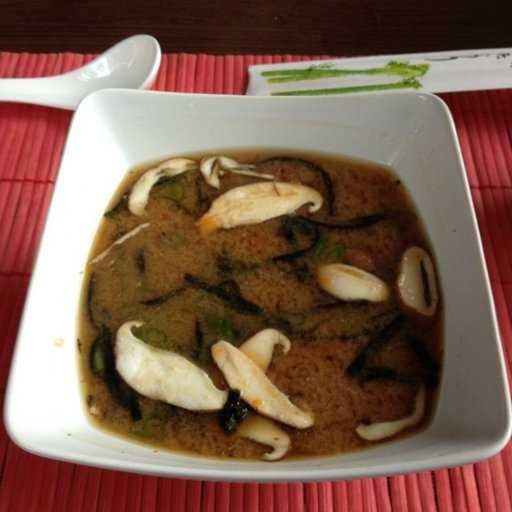soup: (93, 103, 465, 471)
